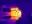Hotspot: (8, 7, 22, 20)
